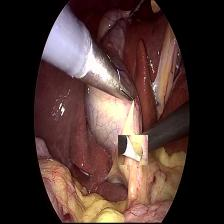Grasper: (116, 67, 143, 111)
Hook: (118, 135, 148, 165)
